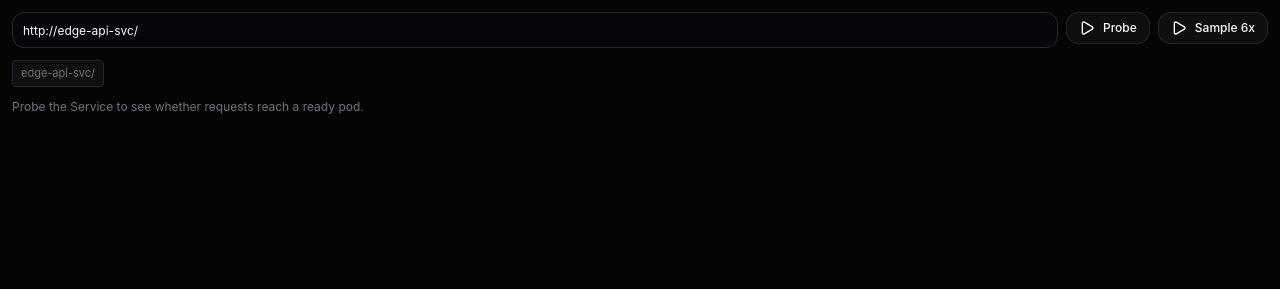
Scenario: NetworkProbe › runs and renders a bounded six-request sample
Click the button "Sample 6x": point(1213, 28) [1158,12,1268,44]
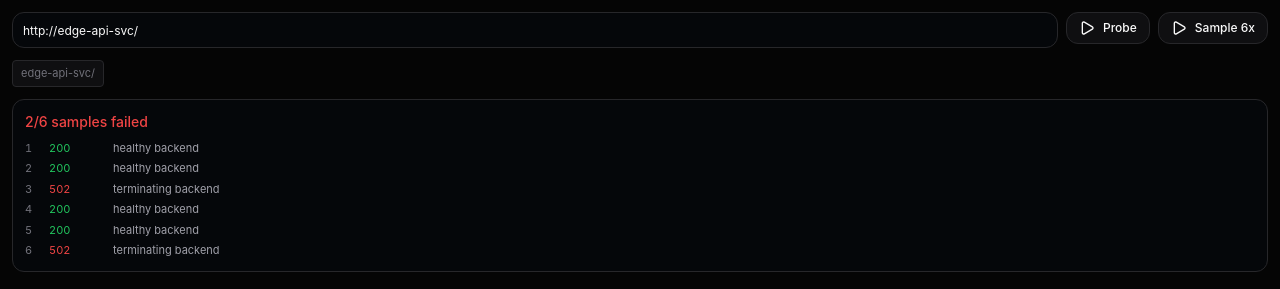
Result: the text "2/6 samples failed" is shown at [25,112,148,130]
Result: the number of list items is 6 at [25,140,199,154]; [25,161,199,175]; [25,182,220,196]; [25,202,199,216]; [25,222,199,236]; [25,243,220,257]
